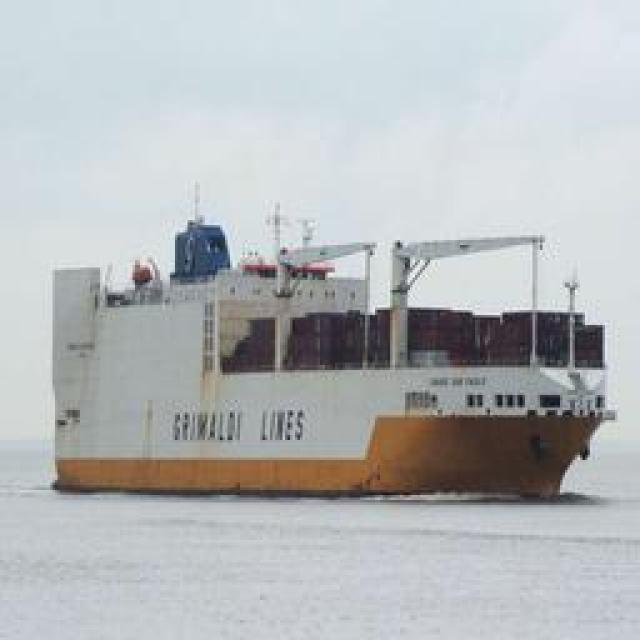CIV_Ship: (56, 220, 626, 508)
